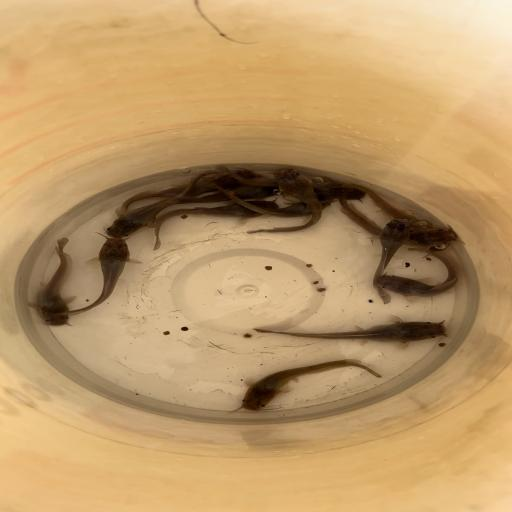lele: (322, 180, 453, 248), (226, 358, 384, 414), (104, 167, 225, 239), (52, 236, 134, 320), (151, 200, 280, 250), (334, 196, 461, 246), (115, 170, 258, 214), (216, 165, 367, 201), (203, 179, 335, 218), (252, 318, 448, 344), (246, 168, 323, 234), (374, 246, 462, 300), (30, 237, 75, 327), (371, 218, 413, 306), (174, 180, 282, 204)
